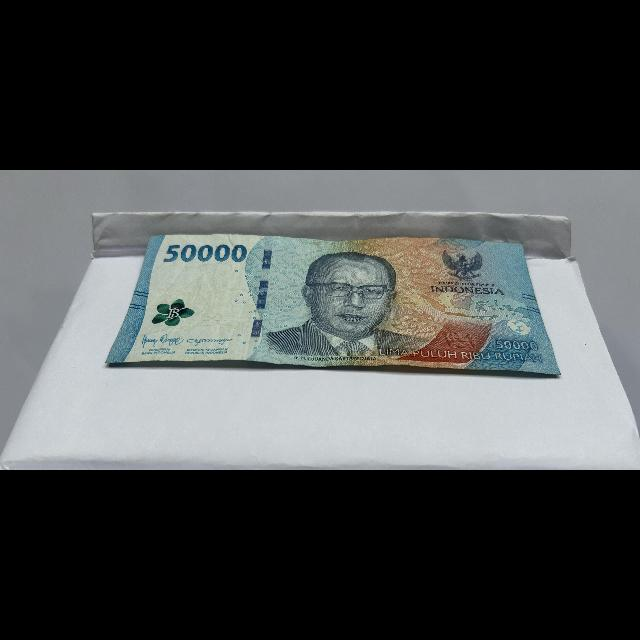Asli-50k: (99, 231, 566, 379)
Tinta-Asli-50k: (150, 298, 200, 328)
